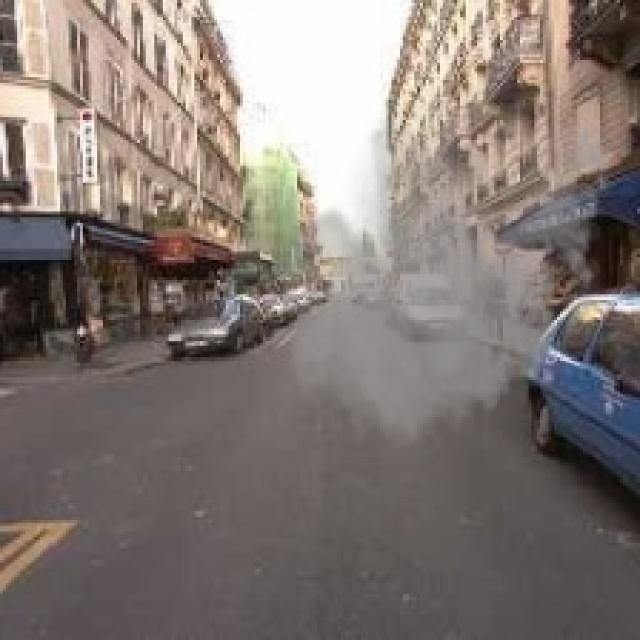Smoke: (255, 60, 620, 463)
